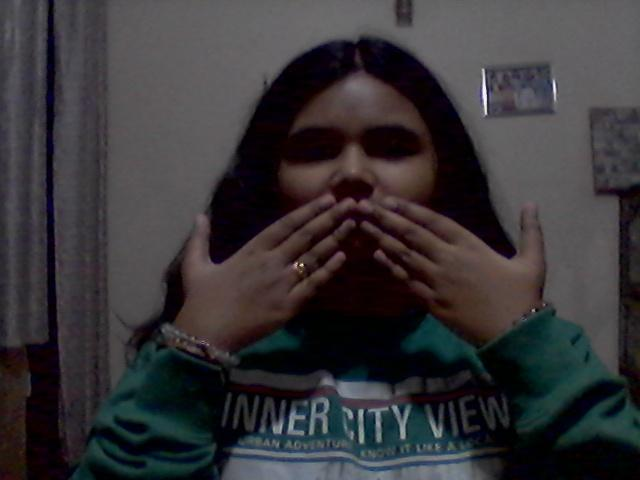thank you: (165, 186, 555, 360)
